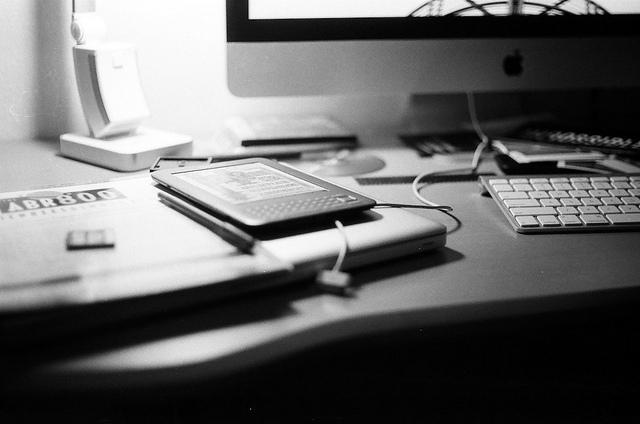phone: (144, 149, 388, 230)
tv: (221, 0, 639, 128)
